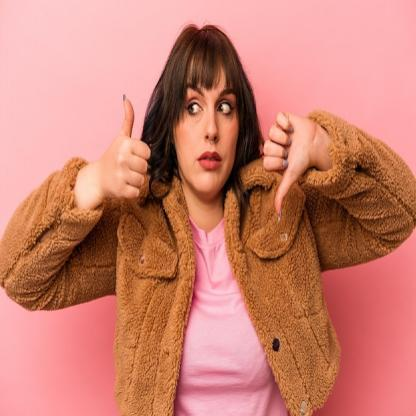thumb_down: (260, 102, 307, 224)
thumb_up: (105, 87, 151, 204)
